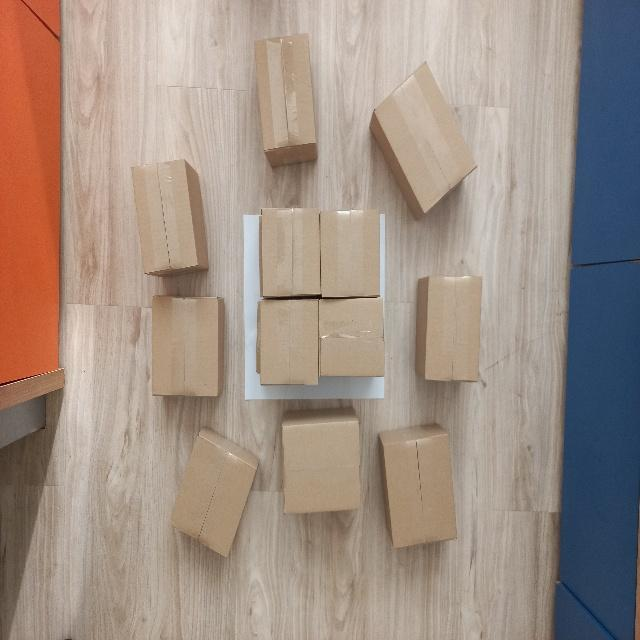box: (365, 57, 480, 219), (166, 425, 261, 560), (123, 155, 213, 281), (375, 421, 462, 551), (279, 407, 366, 517), (253, 32, 318, 170), (148, 295, 228, 400), (412, 271, 485, 386), (318, 298, 388, 378), (260, 205, 320, 298), (260, 294, 320, 386), (320, 212, 382, 295)
